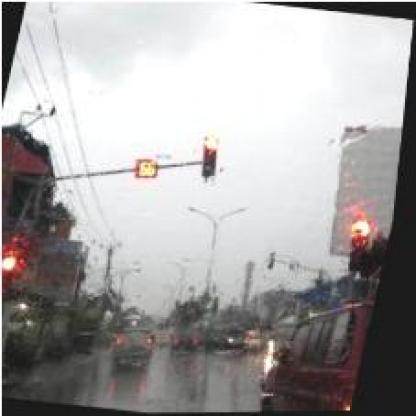red: (198, 135, 223, 177)
